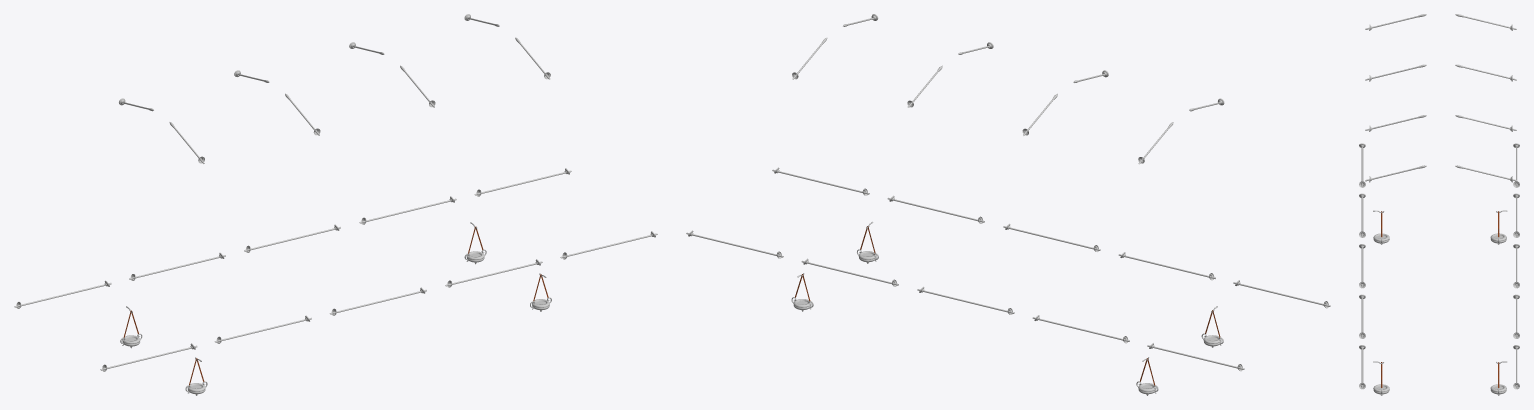
Rendered from poles.fbx.
3 renders of one model, left to right at view 1: azimuth 30°, elevation 25°; view 2: azimuth 150°, elevation 25°; view 3: azimuth 270°, elevation 25°, orthographic. The views are drawn at different scales.
Parts seen in each view (by area): view 1: flagpole, vase_hanging; view 2: flagpole, vase_hanging; view 3: flagpole, vase_hanging, chain.
Part boxes in pixels (x1,y1,x2,y2): flagpole: (14,14,657,371); vase_hanging: (120,222,551,395); flagpole: (686,14,1330,371); vase_hanging: (791,221,1223,395); flagpole: (1359,14,1519,389); vase_hanging: (1373,210,1507,395); chain: (1381,211,1499,387).
Bounding box in the file's own units: 5376 × 2366 × 1499.
